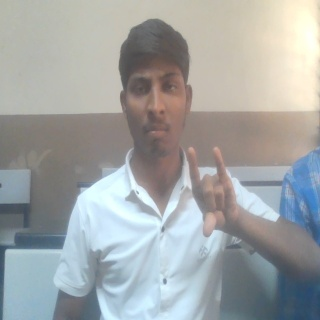Face: (115, 16, 194, 160)
I Love You: (184, 145, 243, 240)
